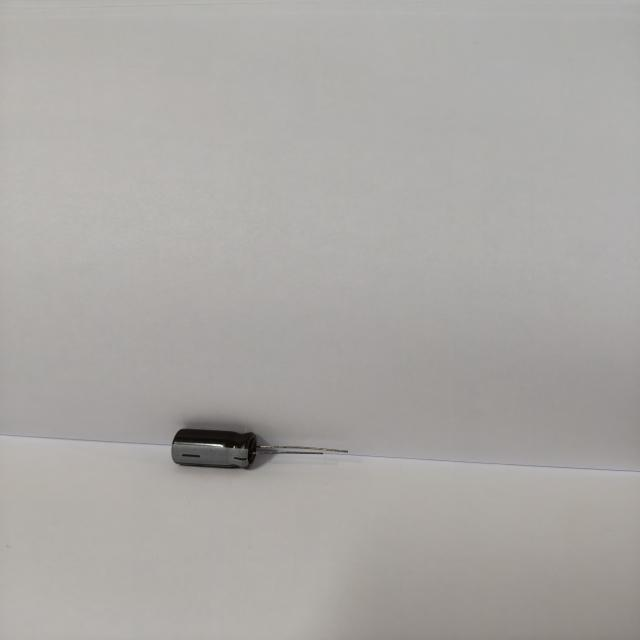capacitor: (156, 414, 359, 480)
